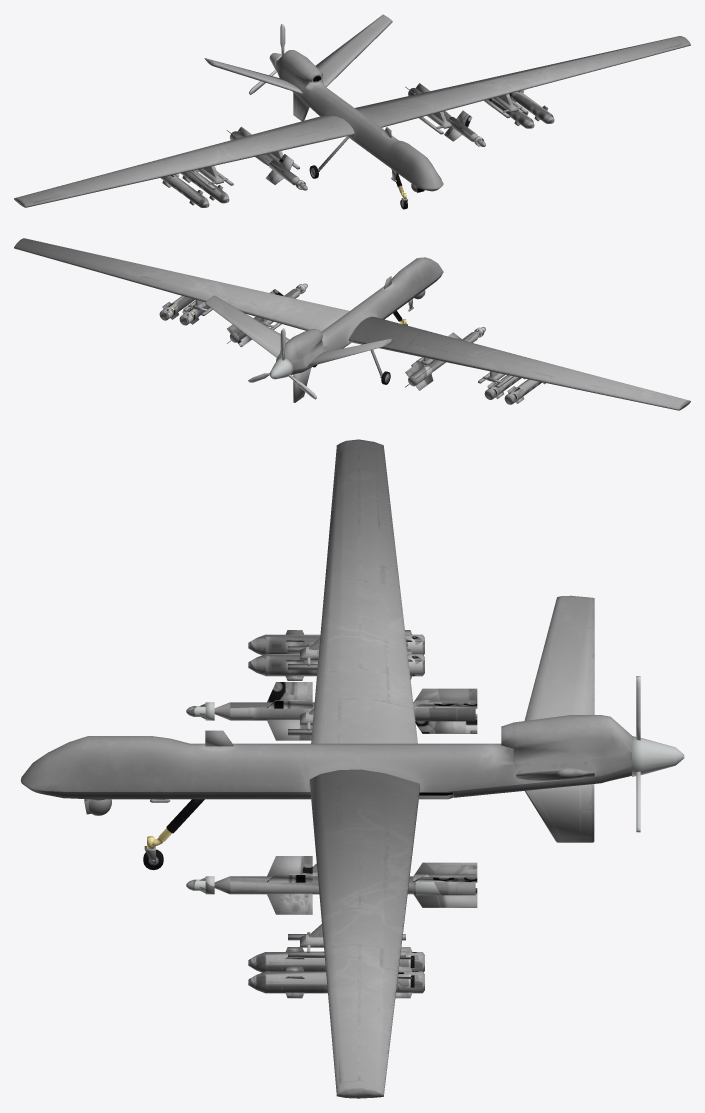
3 renders of one model, top to bottom at view 1: azimuth 30°, elevation 25°; view 2: azimuth 150°, elevation 25°; view 3: azimuth 270°, elevation 25°, orthographic. The views are drawn at different scales.
Visible parts, largest first — view 1: MQ9, GBU12-R, GBU12-L, AGM114-R1, AGM114-L1, AGM114-R2, AGM114-L2, MQ9_MissilePodR1, MQ9_MissilePodL1; view 2: MQ9, GBU12-R, GBU12-L, AGM114-R1, AGM114-L1, AGM114-R2, AGM114-L2; view 3: MQ9, GBU12-L, GBU12-R, AGM114-L1, AGM114-L2, AGM114-R2, AGM114-R1.
Boxes of the visible parts, box(x1,y1,x2,y2) form: MQ9: box(14, 14, 690, 209); GBU12-R: box(227, 126, 307, 190); GBU12-L: box(405, 83, 485, 146); AGM114-R1: box(160, 174, 209, 207); AGM114-L1: box(509, 90, 554, 123); AGM114-R2: box(181, 170, 229, 203); AGM114-L2: box(488, 98, 534, 128); MQ9_MissilePodR1: box(188, 168, 233, 189); MQ9_MissilePodL1: box(484, 97, 528, 118); MQ9: box(14, 238, 690, 410); GBU12-R: box(405, 327, 485, 390); GBU12-L: box(227, 283, 307, 347); AGM114-R1: box(504, 379, 545, 404); AGM114-L1: box(159, 296, 195, 320); AGM114-R2: box(484, 375, 525, 399); AGM114-L2: box(179, 305, 209, 325); MQ9: box(20, 439, 684, 1098); GBU12-L: box(186, 856, 477, 914); GBU12-R: box(186, 682, 477, 740); AGM114-L1: box(248, 966, 424, 998); AGM114-L2: box(248, 947, 424, 972); AGM114-R2: box(248, 649, 424, 680); AGM114-R1: box(248, 630, 424, 655).
Bounding box in the file's own units: 18 × 2.48 × 7.77.
Materials: 3 (3 with a texture image).
